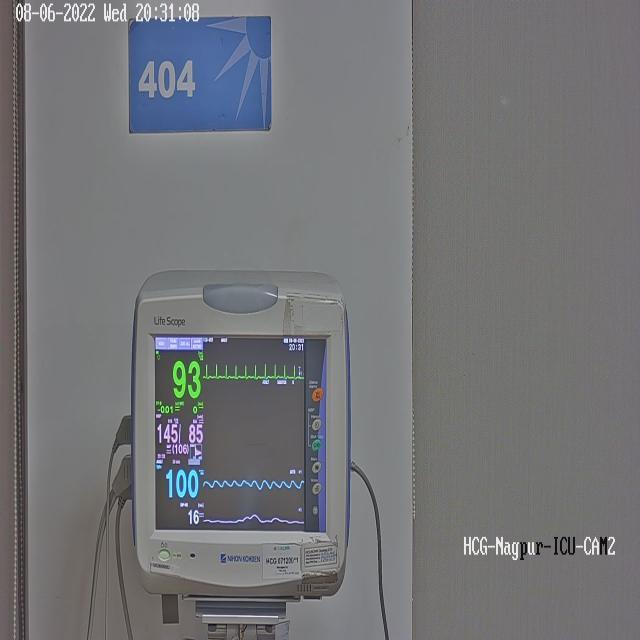Monitor: (130, 267, 352, 601)
